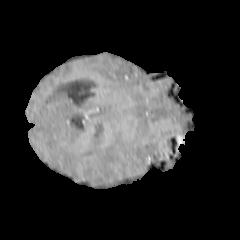glioma: (43, 127, 122, 168)
